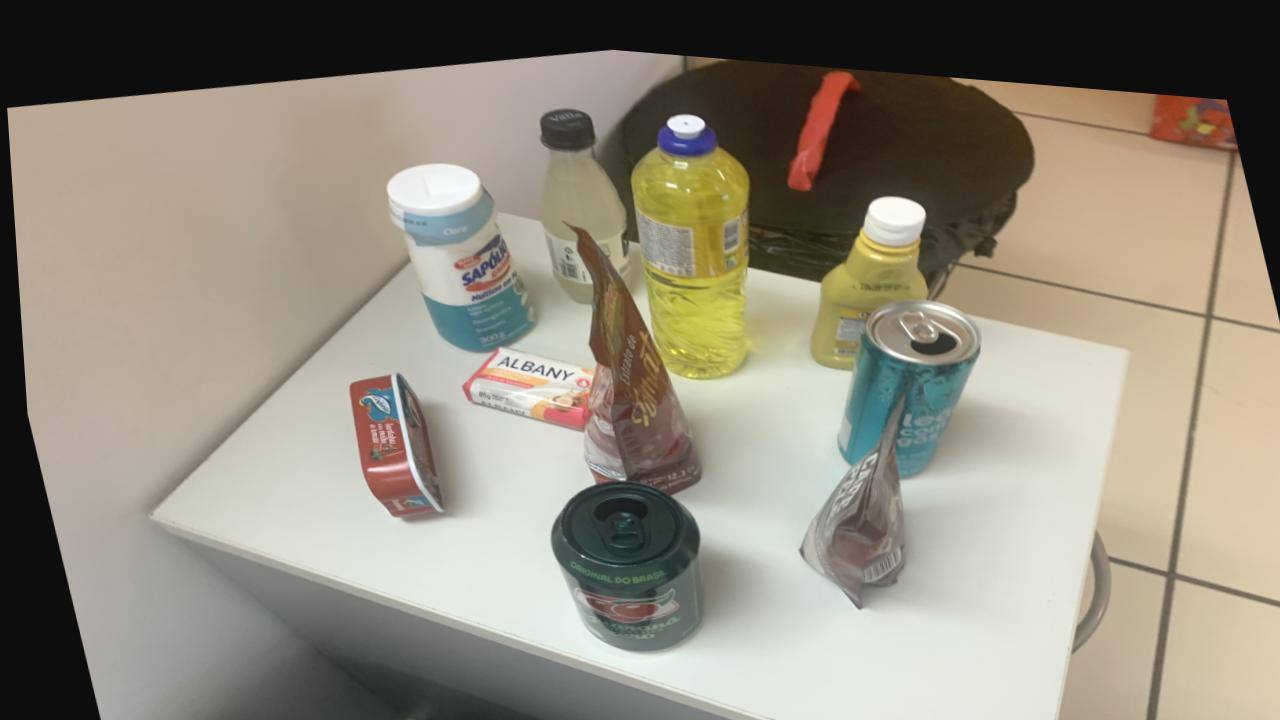Cleaner-Cleanup_Items: (383, 154, 531, 344)
Coffee-Pantry_Items: (792, 382, 901, 594)
Detergent-Cleanup_Items: (628, 101, 748, 367)
Guarana_Can-Drinks: (543, 470, 696, 641)
Mustard-Pantry_Items: (805, 180, 925, 354)
Soap-Cleanup_Items: (457, 338, 590, 420)
Soda-Drinks: (537, 98, 627, 293)
Tea-Drinks: (832, 283, 977, 462)
Tomato_Sauce-Pantry_Items: (567, 216, 695, 483)
Tuna_Can-Pantry_Items: (344, 366, 437, 511)
